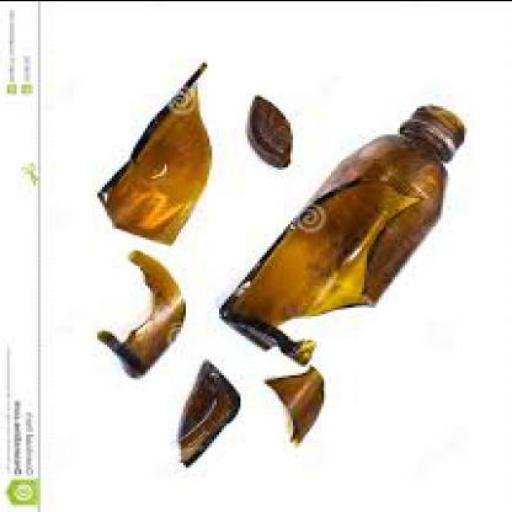glass: (221, 105, 467, 368), (100, 66, 214, 248), (98, 249, 188, 381), (181, 362, 242, 468), (270, 365, 326, 449), (241, 98, 297, 168)
